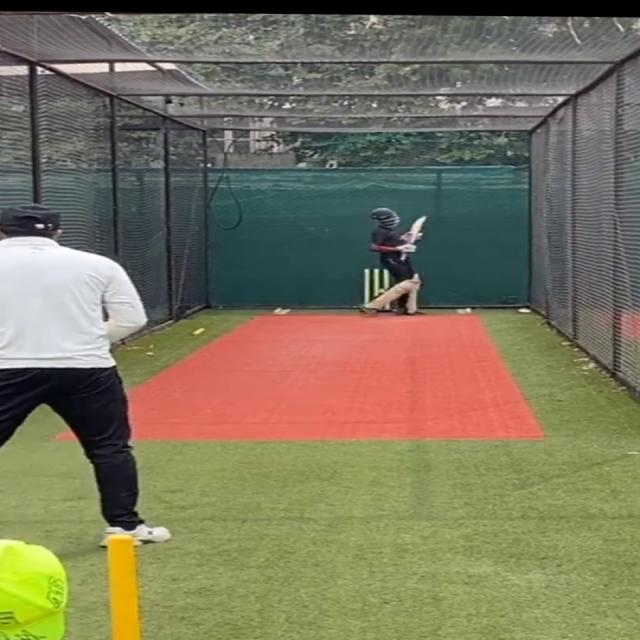stump: (358, 268, 391, 312)
